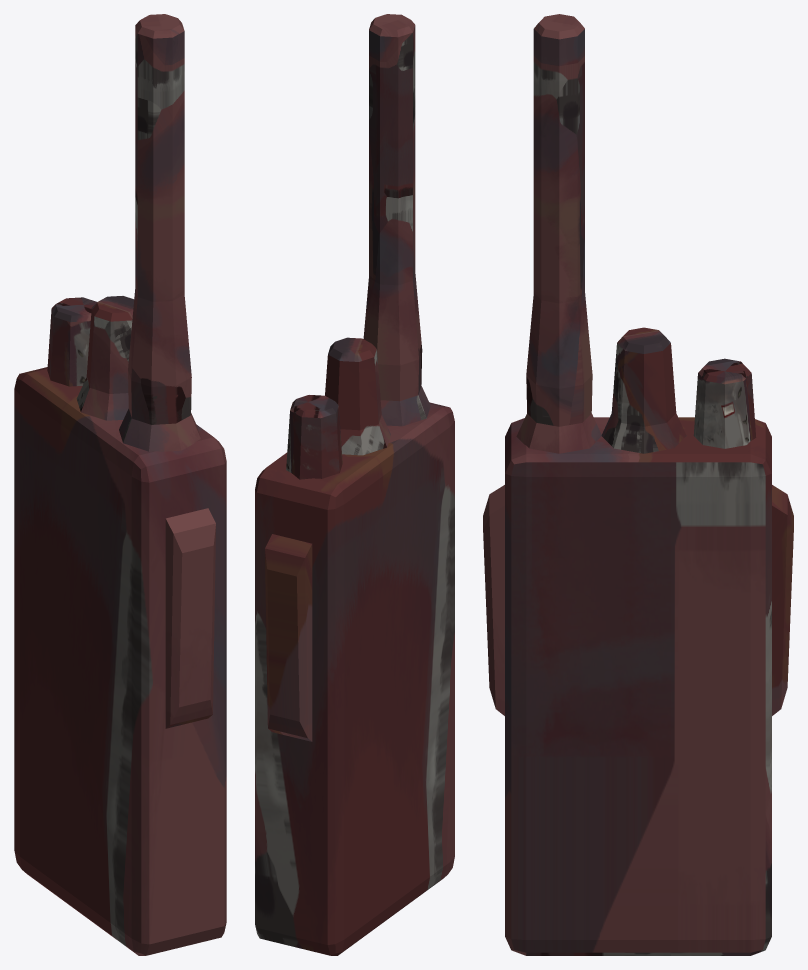
File: radio.fbx
3 views of the same model, side by side, from view 1: azimuth 30°, elevation 25°; view 2: azimuth 150°, elevation 25°; view 3: azimuth 270°, elevation 25° (orthographic). The views are drawn at different scales.
Parts seen in each view (by area): view 1: radio; view 2: radio; view 3: radio.
Part boxes in pixels (bbox=[...]): radio: bbox=[14, 14, 226, 955]; radio: bbox=[255, 14, 454, 955]; radio: bbox=[483, 14, 793, 955].
Bounding box in the file's own units: 26.24 × 256 × 78.7.
